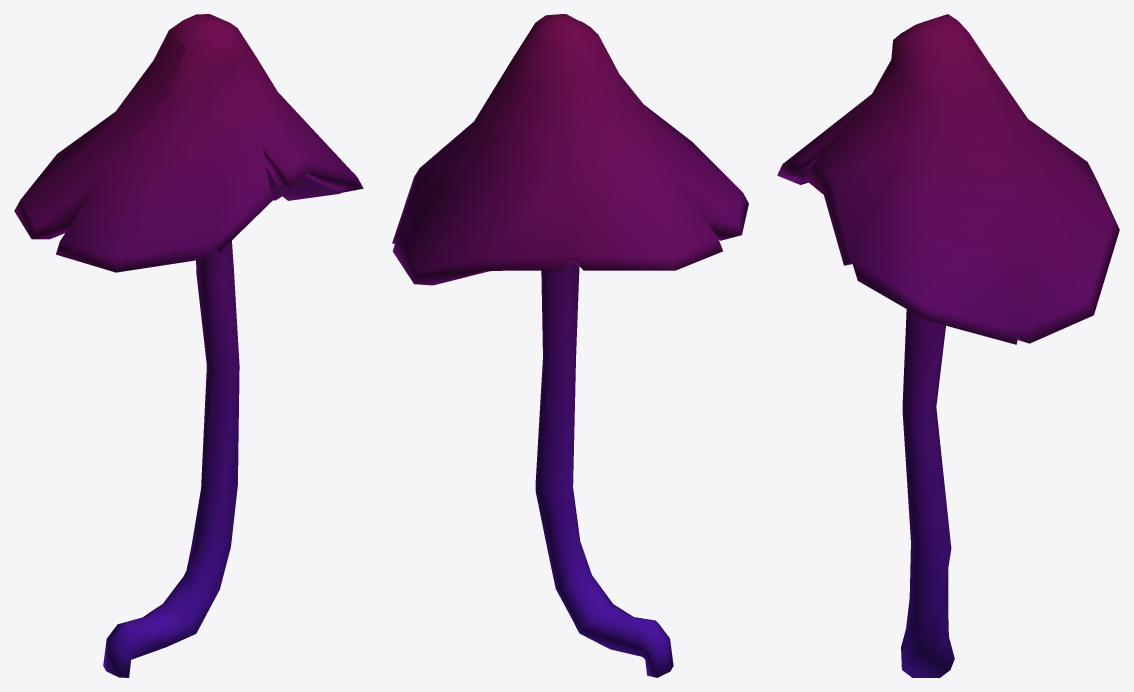
The model's file is mushroom_giant.001.fbx.
The picture shows the model from 3 angles, left to right: view 1: azimuth 30°, elevation 25°; view 2: azimuth 150°, elevation 25°; view 3: azimuth 270°, elevation 25°; orthographic projection. The views are drawn at different scales.
Visible parts, largest first — view 1: mushroom_griant.001; view 2: mushroom_griant.001; view 3: mushroom_griant.001.
Boxes of the visible parts, x1,y1,x2,y2 form: mushroom_griant.001: (14,14,363,677); mushroom_griant.001: (392,14,748,677); mushroom_griant.001: (777,14,1119,677).
Size of the model in its own units: 176 by 334 by 149.
